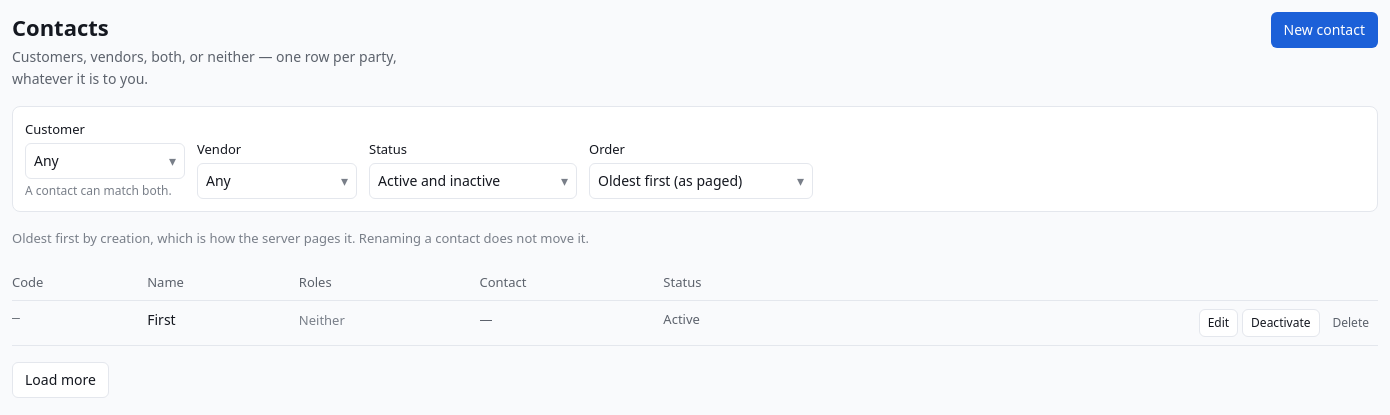
Test case: ContactsScreen › filters and ordering › pages on the cursor it was given, and only when it was given one
Click the button "Load more" at x=60, y=380, box [12,362,109,398]
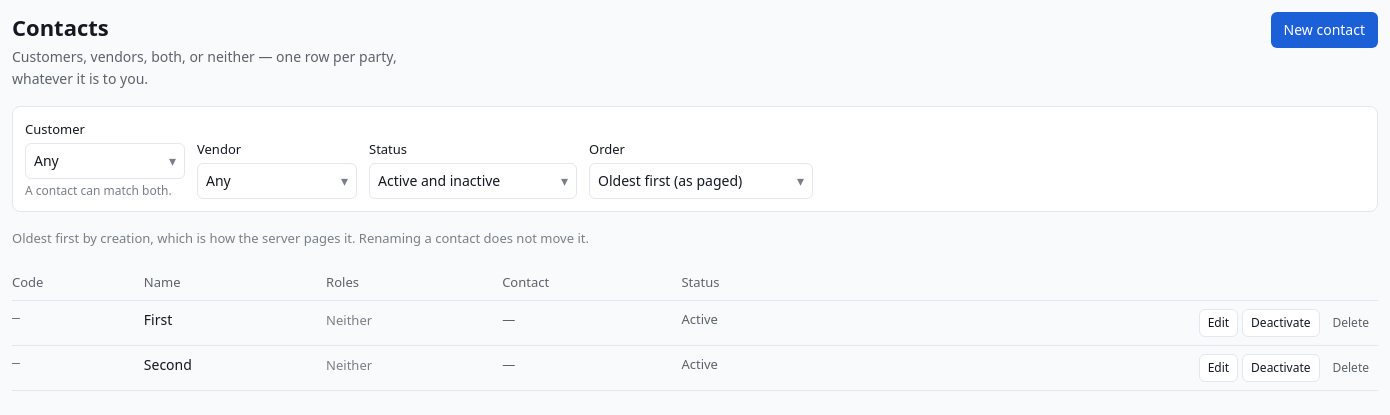
Check: the row "— Second Neither — Active Edit Deactivate Delete" is shown, box [12,346,1378,390]
Check: the button "Load more" is gone
